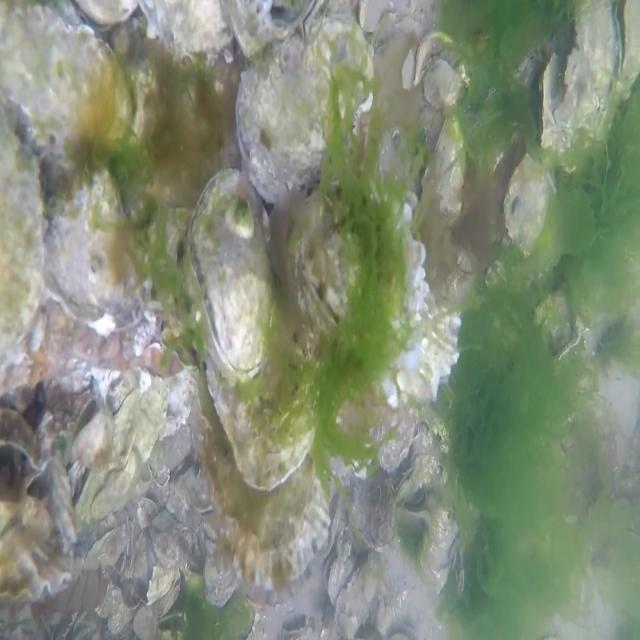Oyster-Closed: (9, 7, 135, 146), (190, 173, 272, 386), (50, 175, 149, 338), (236, 41, 330, 195), (0, 136, 47, 423), (510, 148, 559, 241)
Oyster-Indeterminate: (2, 446, 124, 618), (212, 492, 338, 596), (290, 190, 370, 352), (208, 386, 322, 492), (138, 0, 240, 60), (243, 0, 326, 53)
